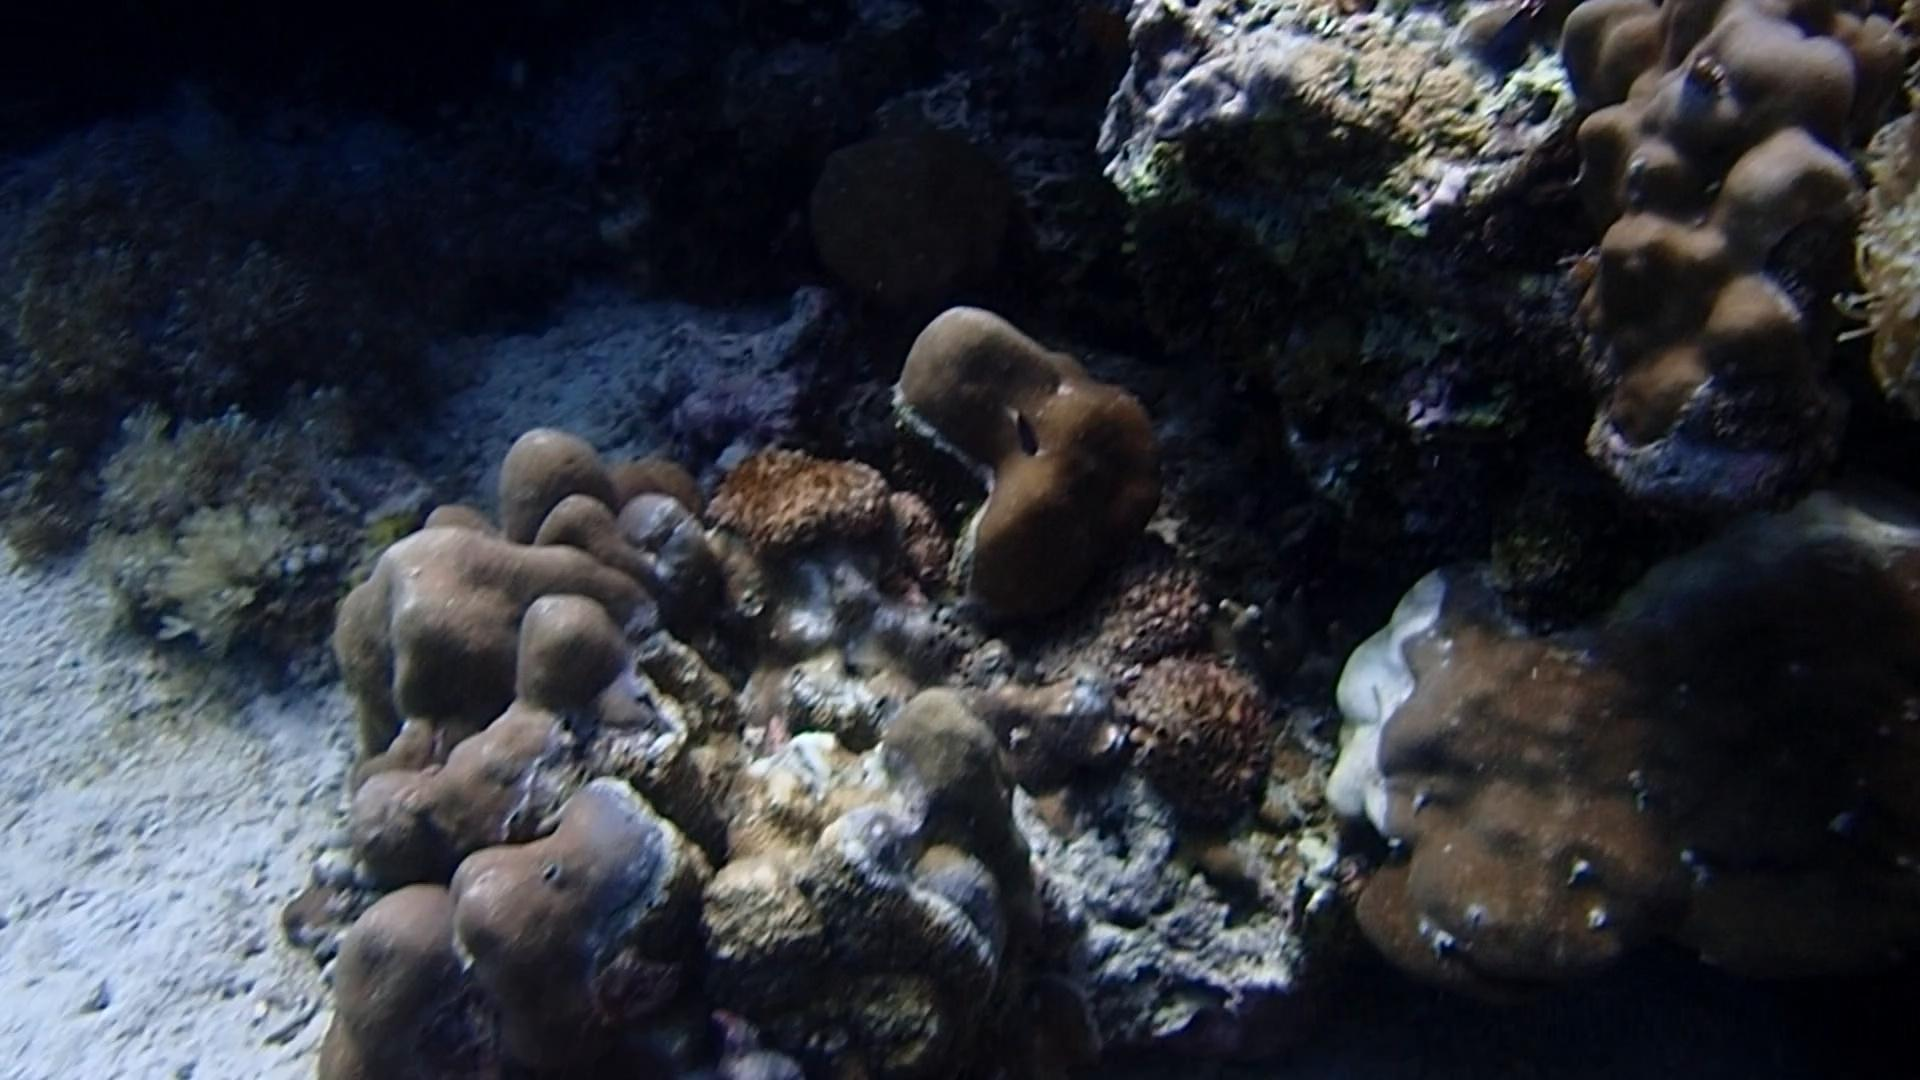Dark Fish: (1476, 3, 1556, 87)
Yellow Tail: (1001, 392, 1051, 458)
